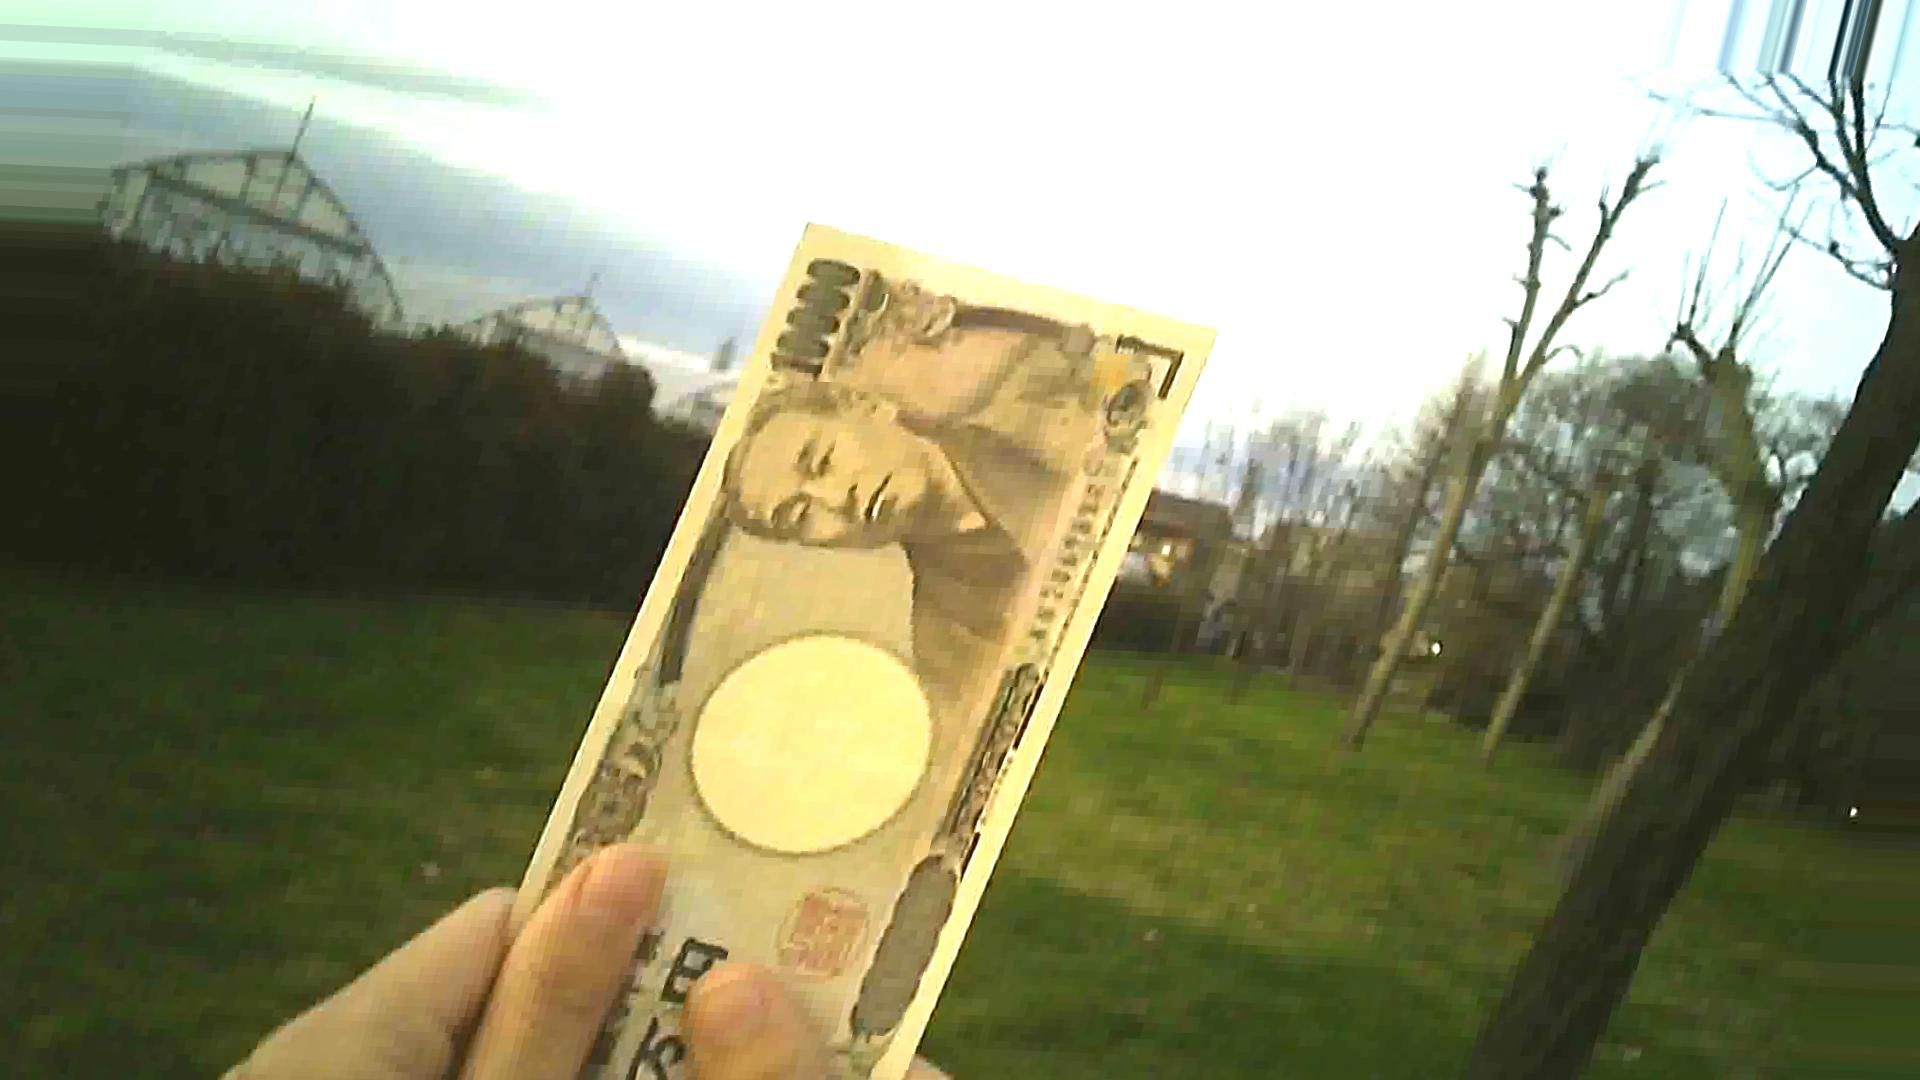10,000 Yen: (464, 206, 1234, 1073)
